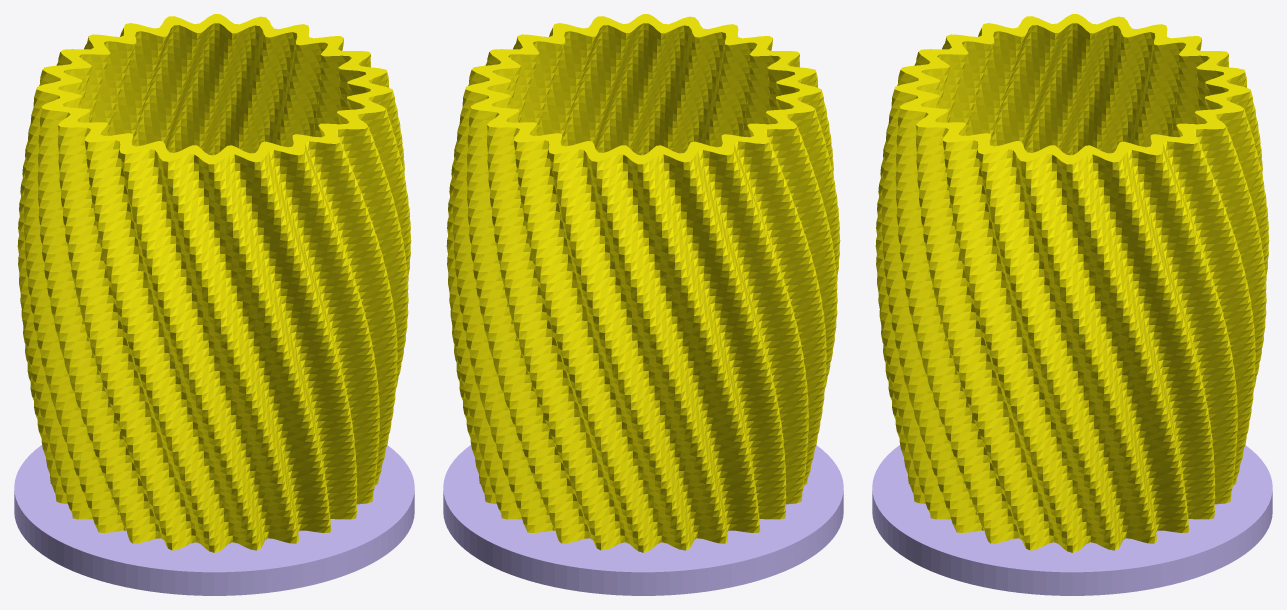
File: spiral-planter.glb
3 views of the same model, side by side, from view 1: azimuth 30°, elevation 25°; view 2: azimuth 150°, elevation 25°; view 3: azimuth 270°, elevation 25° (orthographic).
Parts seen in each view (by area): view 1: Body, Base; view 2: Body, Base; view 3: Body, Base.
Part boxes in pixels (x1,y1,x2,y2): Body: (17, 14, 411, 552); Base: (14, 445, 414, 595); Body: (446, 14, 840, 552); Base: (443, 445, 843, 595); Body: (875, 14, 1269, 552); Base: (872, 445, 1272, 595).
Bounding box in the file's own units: 1.84 × 2.14 × 1.84.
